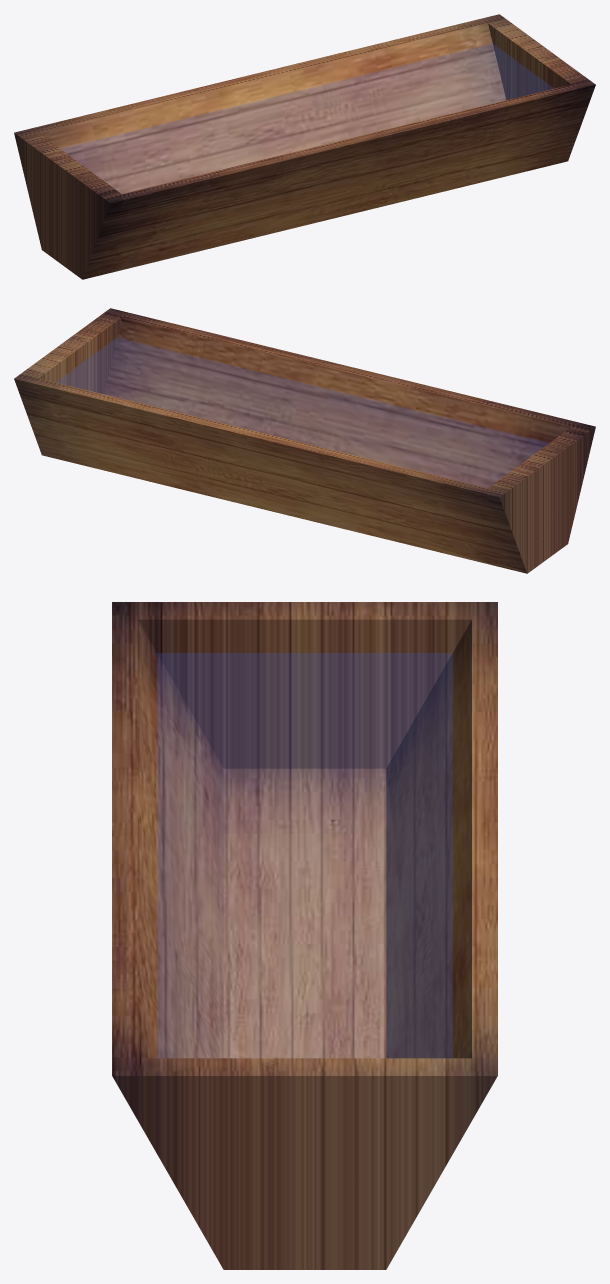
File: WaterTrough.obj
3 views of the same model, one above another, from view 1: azimuth 30°, elevation 25°; view 2: azimuth 150°, elevation 25°; view 3: azimuth 270°, elevation 25° (orthographic). The views are drawn at different scales.
Visible parts, largest first — view 1: floor, water; view 2: floor, water; view 3: floor, water.
Part boxes in pixels (<box>): floor: <box>14,14,595,279</box>; water: <box>61,44,553,193</box>; floor: <box>14,308,595,573</box>; water: <box>56,338,548,487</box>; floor: <box>112,602,497,1269</box>; water: <box>158,653,451,1057</box>.
Size of the model in its own units: 19.76 by 3.77 by 6.79.
2 materials, 1 textured.
